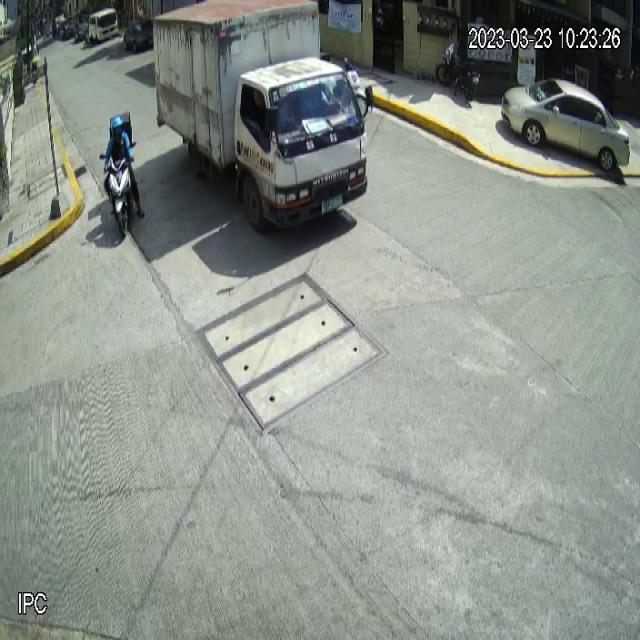Car: (501, 76, 631, 172)
Motorcycle: (98, 141, 138, 238)
Truck: (152, 0, 375, 235)
